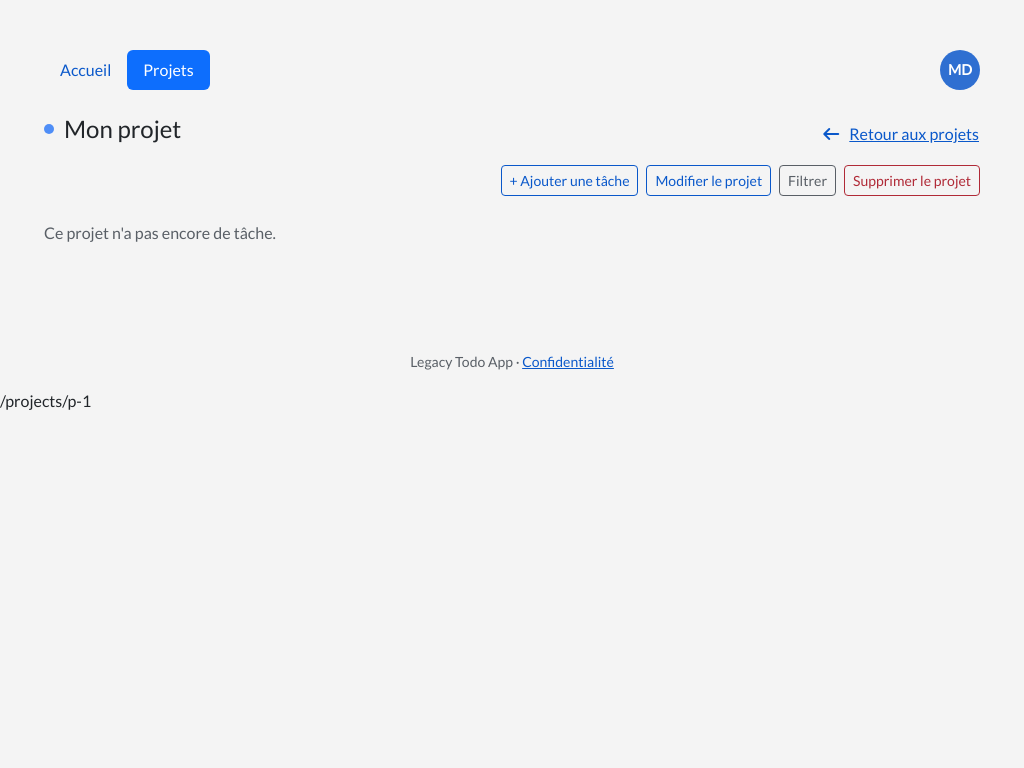
Test: notifications driven by websocket events › the acting tab does not notify twice: a successful POST alone shows nothing
Expected: the text "Ce projet n'a pas encore de tâche." is shown, [44,223,276,242]
Click the button "+ Ajouter une tâche" at (570, 180), box [500,165,638,196]
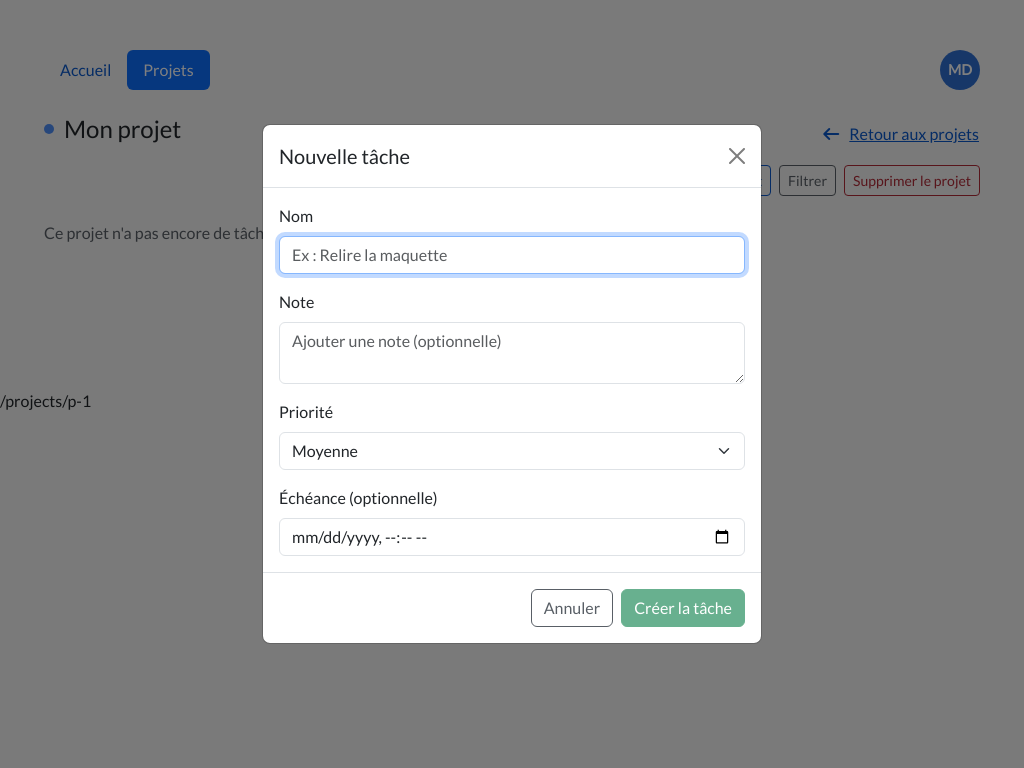
Type "Mine" into the field labelled "Nom" at (512, 255), box [279,236,745,274]
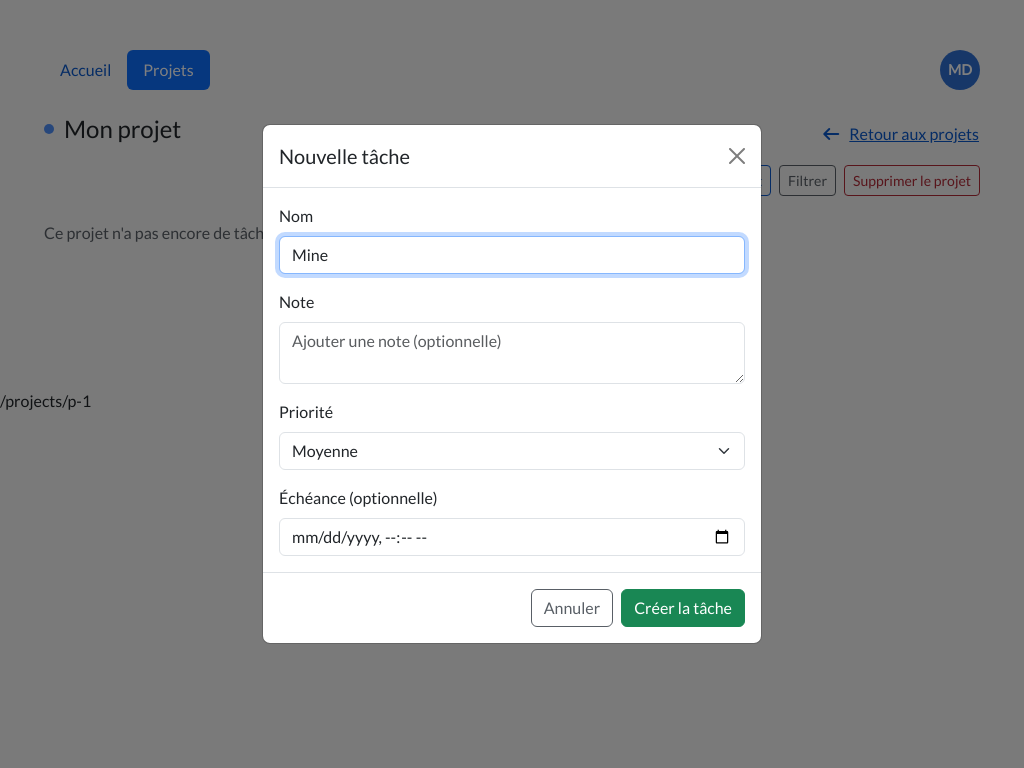
Click the button "Créer la tâche" at (683, 608), box [621,589,745,627]
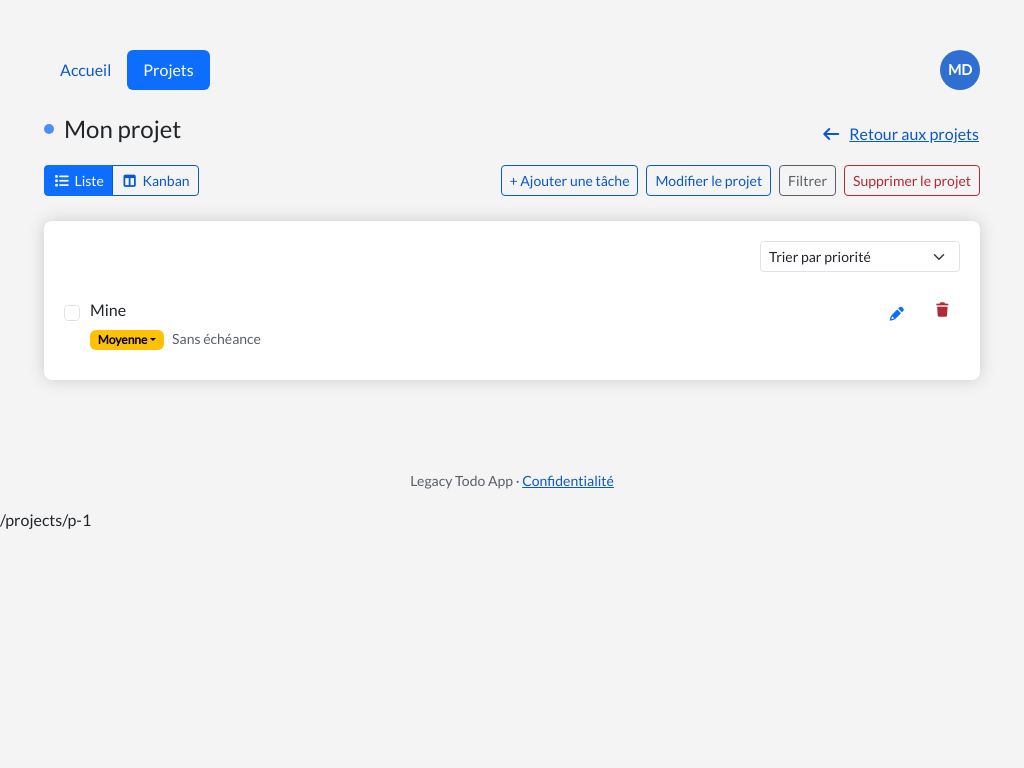
Now the text "Mine" is shown, box [90,300,126,319]
